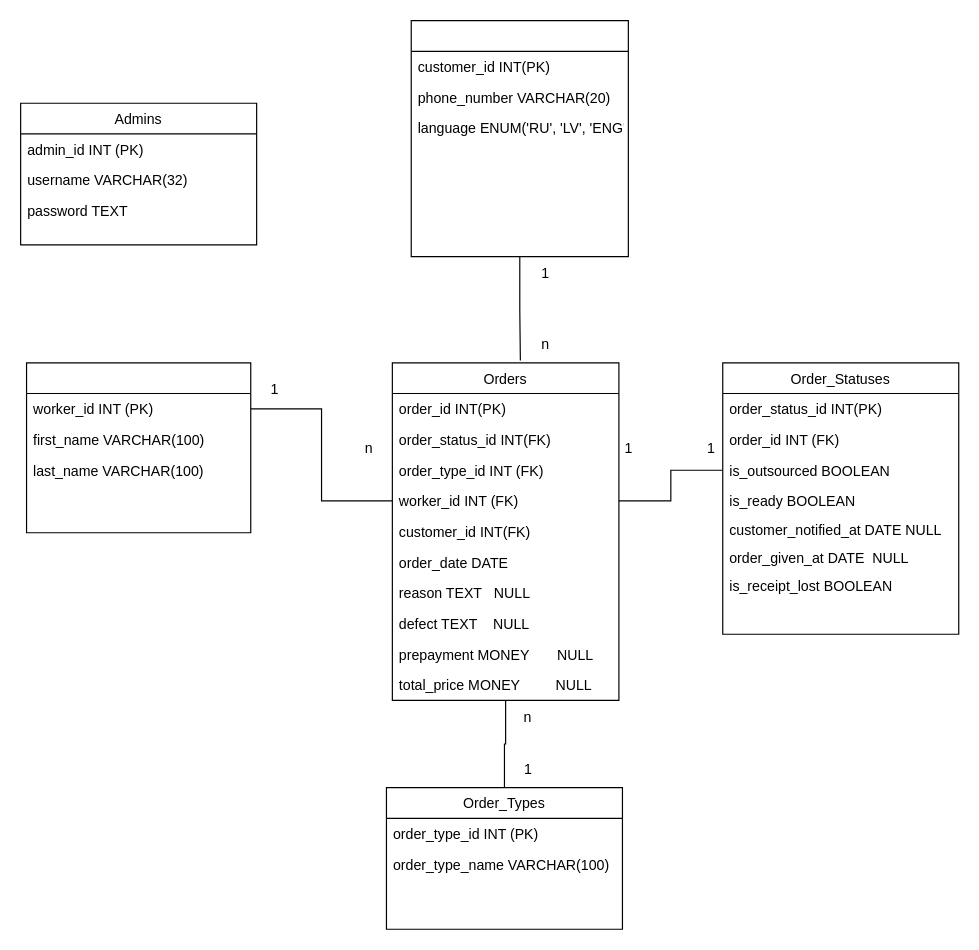
The diagram is 979 pixels wide and 950 high, and some of its shapes have lost their labels. Here are the shapes that lost their labels. From the top down, the box of each, then its label:
(410, 19, 628, 257): Customers
(25, 362, 251, 533): Workers
